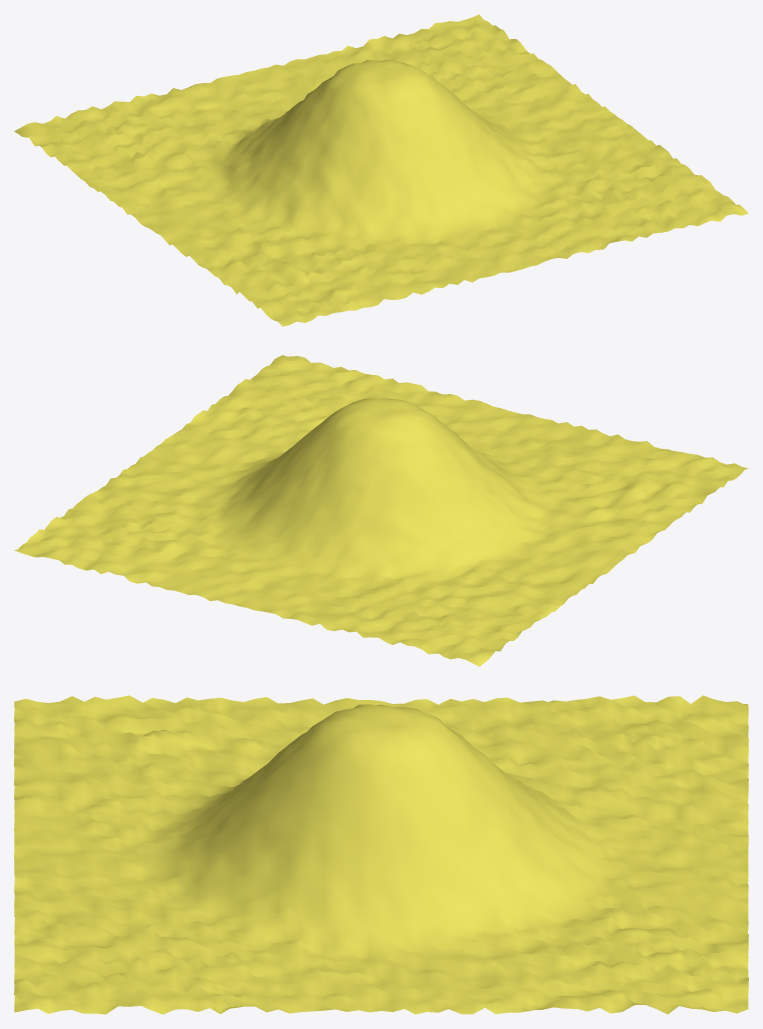
File: Sandmaptest.fbx
3 views of the same model, one above another, from view 1: azimuth 30°, elevation 25°; view 2: azimuth 150°, elevation 25°; view 3: azimuth 270°, elevation 25° (orthographic). The views are drawn at different scales.
Visible parts, largest first — view 1: Plane; view 2: Plane; view 3: Plane.
Boxes of the visible parts, left/top/right/bottom form: Plane: left=14, top=14, right=748, bottom=326; Plane: left=14, top=355, right=748, bottom=666; Plane: left=14, top=695, right=748, bottom=1014.
Size of the model in its own units: 30083 by 6277 by 30040.
